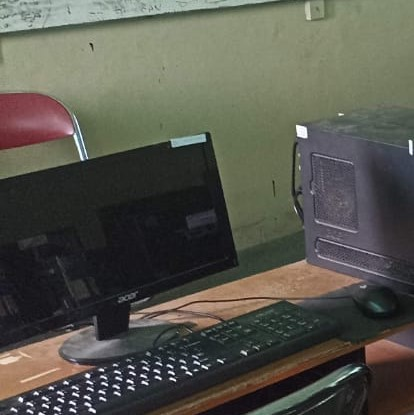monitor: (0, 130, 240, 357), (295, 104, 413, 293)
